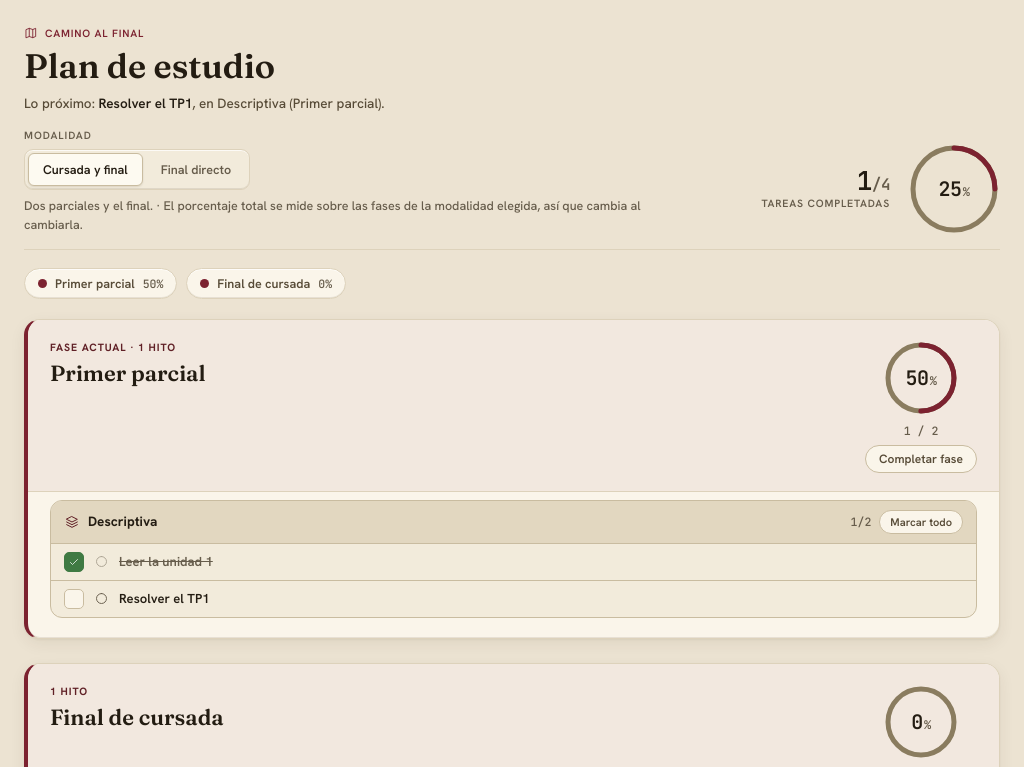
Test: <PlanView/> con modalidades › cambiar de modalidad cambia las fases, el progreso y «lo próximo»
Expected: the element named "MODALIDAD" is shown, [24, 149, 250, 190]
Expected: the text "Resolver el TP1" is shown 2 times, [98, 94, 192, 112]; [119, 590, 210, 608]
What coordinates should you click on to do the following:
click the radio button labelled "Final directo"
I would click on:
 (196, 170)
Its box is [146, 153, 246, 186].
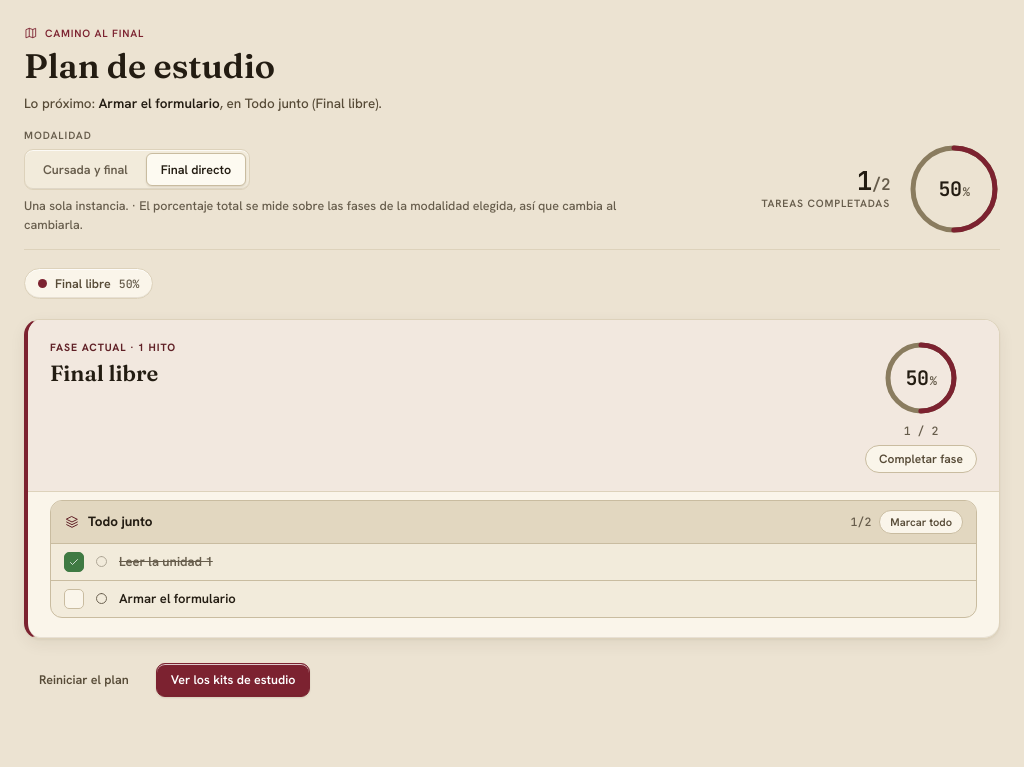
Expected: the text "Armar el formulario" is shown 2 times, [98, 94, 220, 112]; [119, 590, 236, 608]
Expected: the text "Resolver el TP1" is not shown
